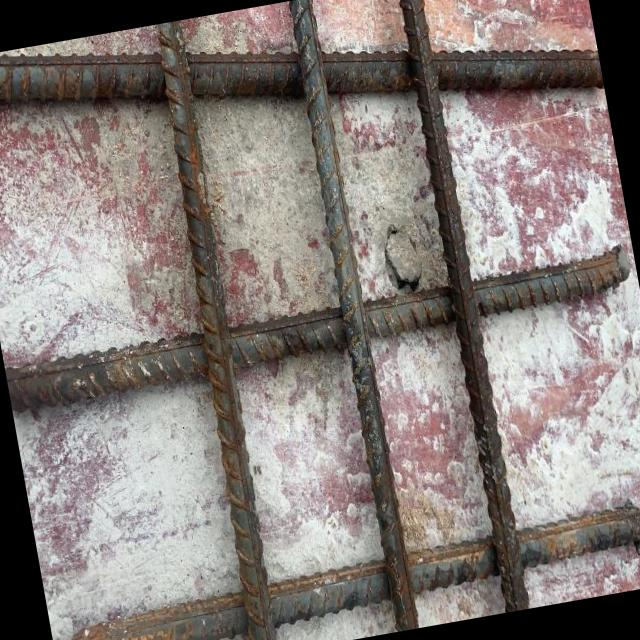ribbed bar: (0, 0, 604, 201), (3, 250, 633, 413), (139, 19, 292, 640), (284, 0, 423, 630), (392, 0, 530, 611), (62, 499, 640, 640)
